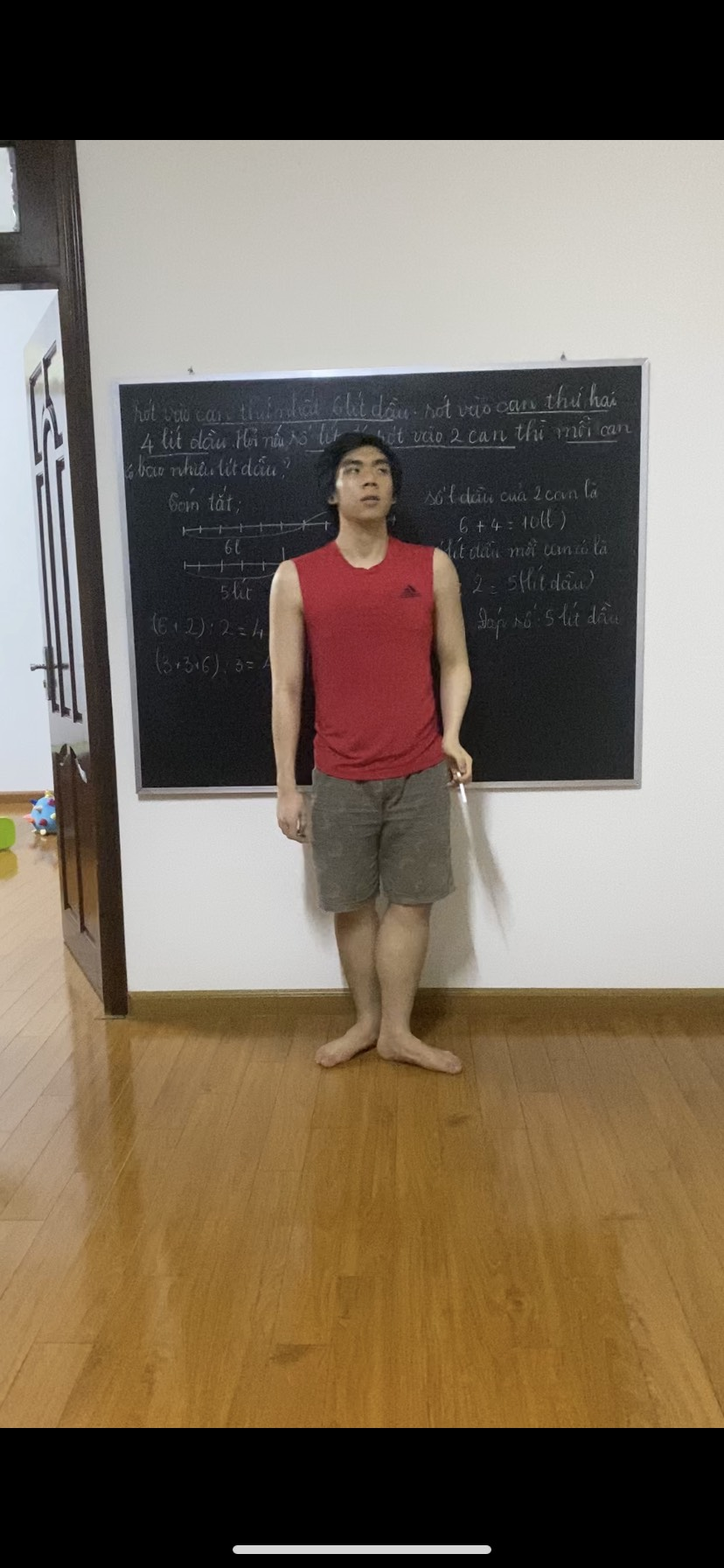cigarette: (456, 785, 473, 809)
person: (268, 425, 474, 1093)
